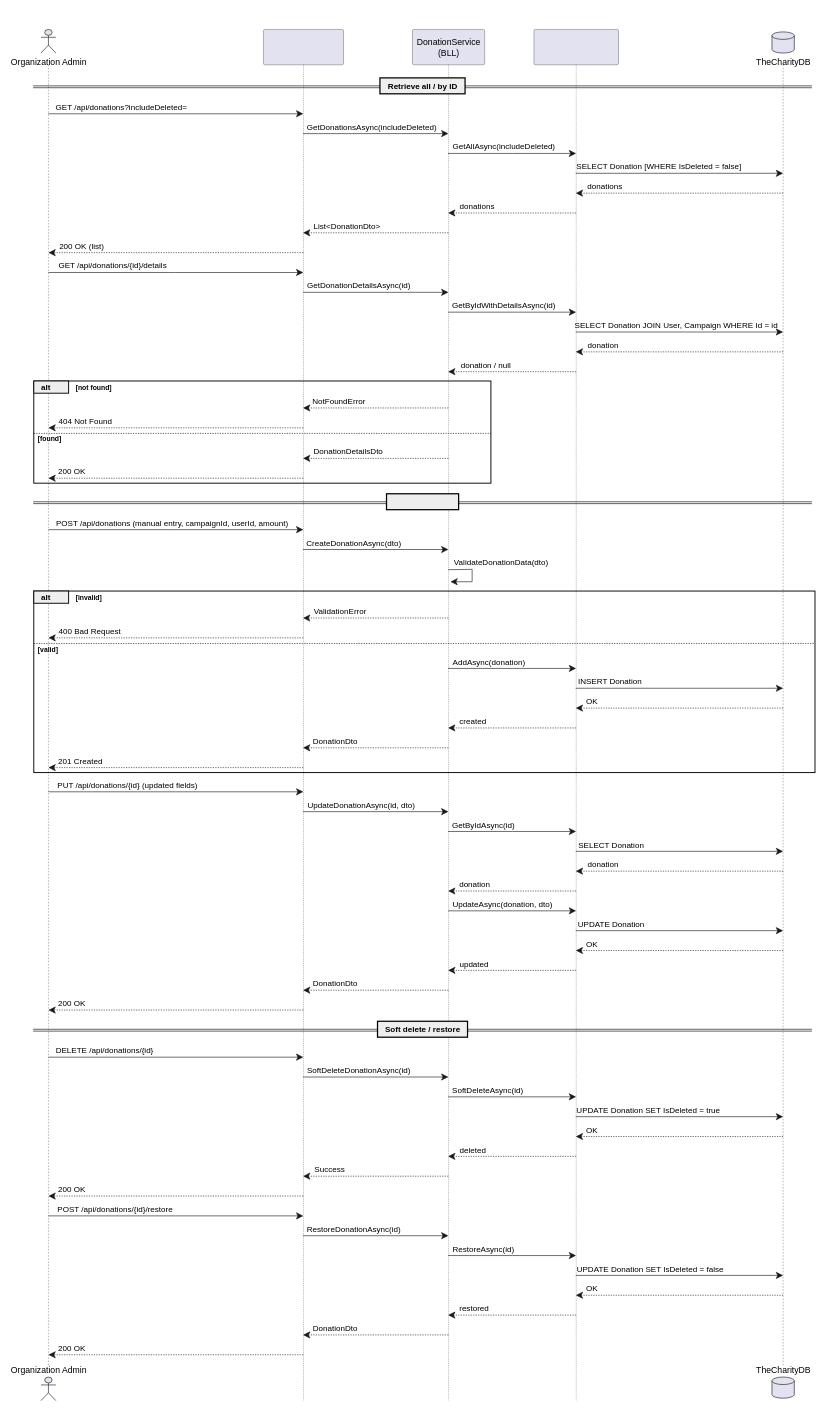
The diagram is 826 pixels wide and 1412 high, and some of its shapes have lost their labels. Each missing label, with the box of its shape:
Create / update: (386, 493, 459, 510)
DonationController (PL): (263, 29, 343, 1401)
DonationRepository (DAL): (534, 29, 618, 1401)
